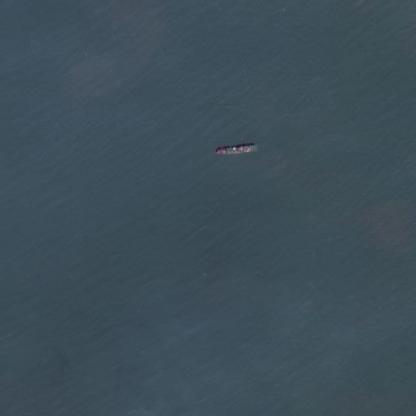ship: (211, 138, 257, 160)
